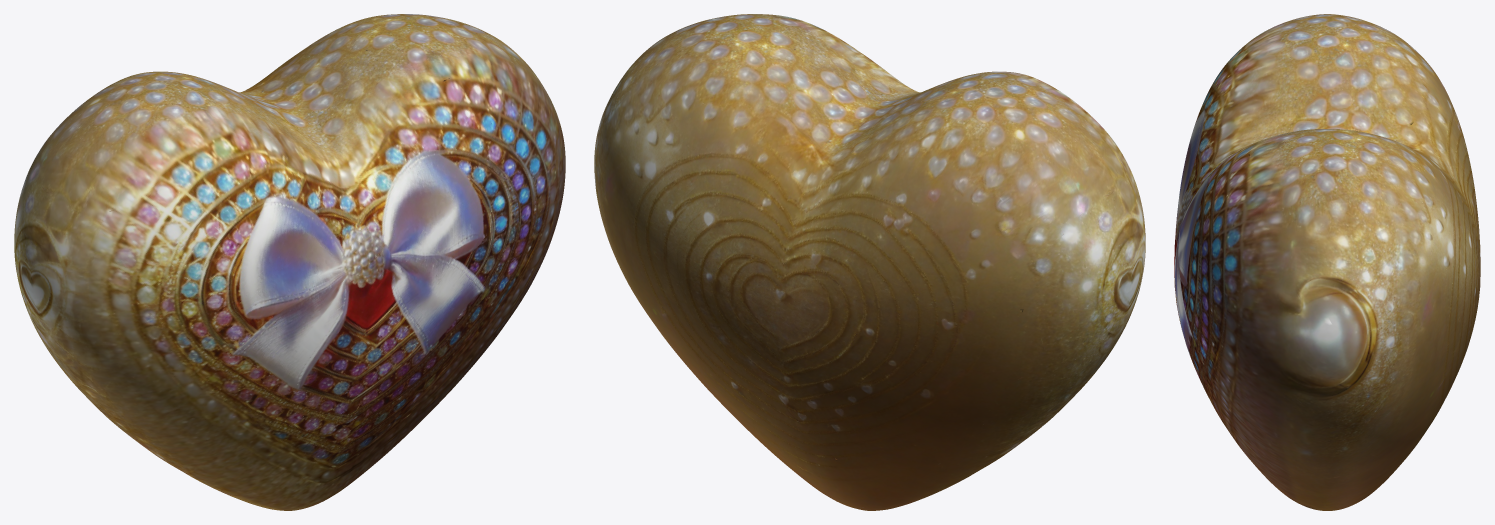
The model's file is heart_gold_sparkling__1130230237_texture.glb.
The picture shows the model from 3 angles, left to right: view 1: azimuth 30°, elevation 25°; view 2: azimuth 150°, elevation 25°; view 3: azimuth 270°, elevation 25°; orthographic projection. The views are drawn at different scales.
Size of the model in its own units: 2 by 1.65 by 1.08.
Materials: 1 (1 with a texture image).
